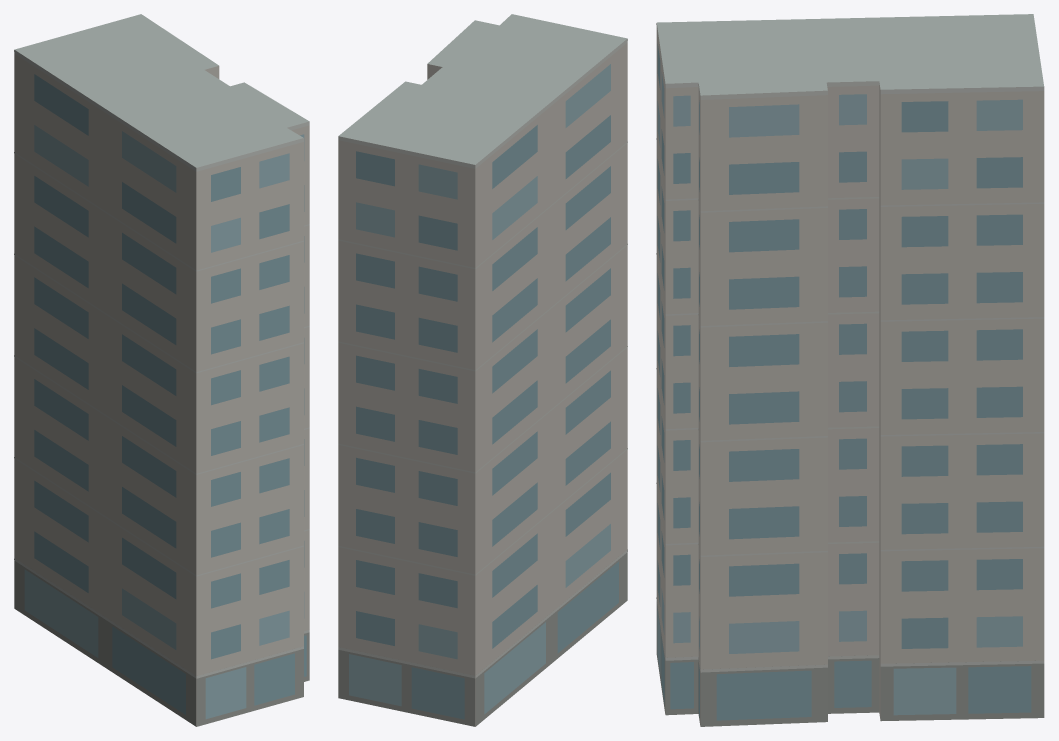
The model's file is survey-upis-32728313.glb.
3 views of the same model, side by side, from view 1: azimuth 30°, elevation 25°; view 2: azimuth 150°, elevation 25°; view 3: azimuth 270°, elevation 25° (orthographic). The views are drawn at different scales.
Parts seen in each view (by area): view 1: survey-upis-32728313.tmp; view 2: survey-upis-32728313.tmp; view 3: survey-upis-32728313.tmp.
Boxes of the visible parts, x1=… form: survey-upis-32728313.tmp: x1=14, y1=14, x2=309, y2=726; survey-upis-32728313.tmp: x1=338, y1=14, x2=627, y2=726; survey-upis-32728313.tmp: x1=656, y1=14, x2=1044, y2=726.
Bounding box in the file's own units: 9.58 × 34.5 × 19.22.
